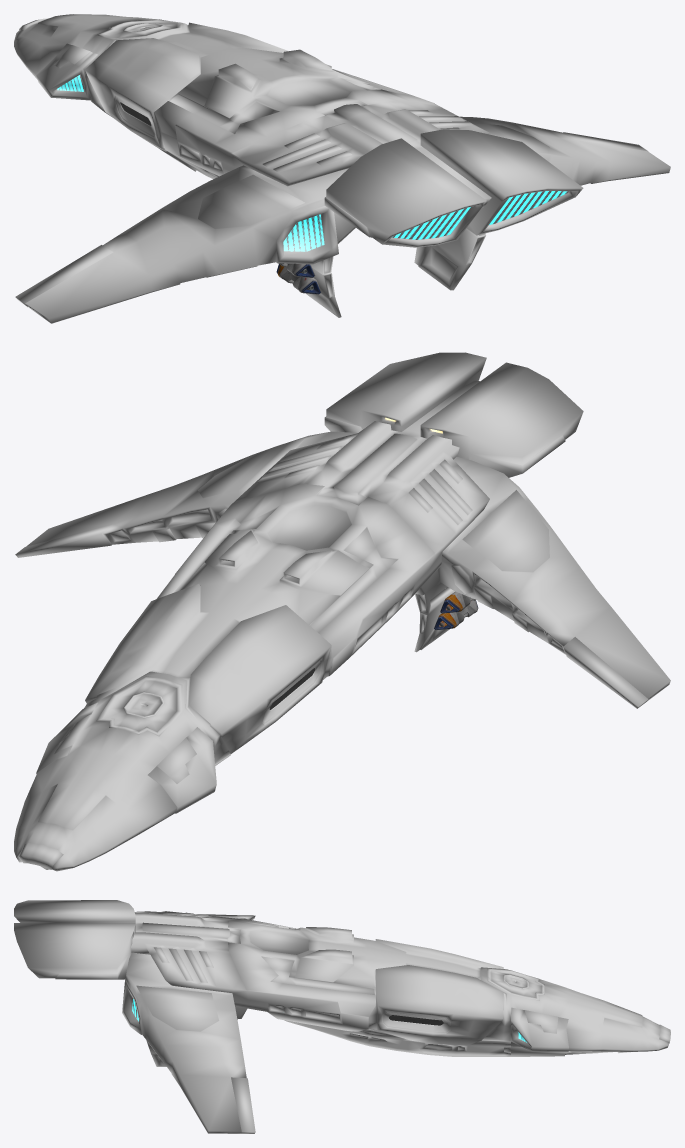
The picture shows the model from 3 angles, top to bottom: view 1: azimuth 30°, elevation 25°; view 2: azimuth 150°, elevation 25°; view 3: azimuth 270°, elevation 25°; orthographic projection. The views are drawn at different scales.
Visible parts, largest first — view 1: SpacefighterWings, SpacefighterMain, Rocket_launcher; view 2: SpacefighterMain, SpacefighterWings, Rocket_launcher; view 3: SpacefighterMain, SpacefighterWings.
Part boxes in pixels (left/top/right/bottom): SpacefighterWings: left=15, top=116, right=670, bottom=323; SpacefighterMain: left=14, top=14, right=491, bottom=208; Rocket_launcher: left=276, top=262, right=321, bottom=294; SpacefighterMain: left=14, top=380, right=489, bottom=871; SpacefighterWings: left=15, top=352, right=670, bottom=708; Rocket_launcher: left=434, top=591, right=478, bottom=630; SpacefighterMain: left=131, top=911, right=670, bottom=1056; SpacefighterWings: left=14, top=900, right=255, bottom=1133.
Bounding box in the file's own units: 2.02 × 0.5971 × 2.58.
